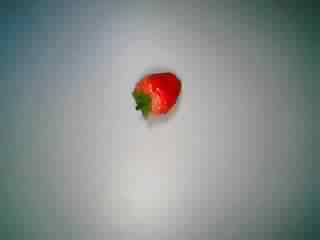strawberry: (122, 66, 188, 128)
